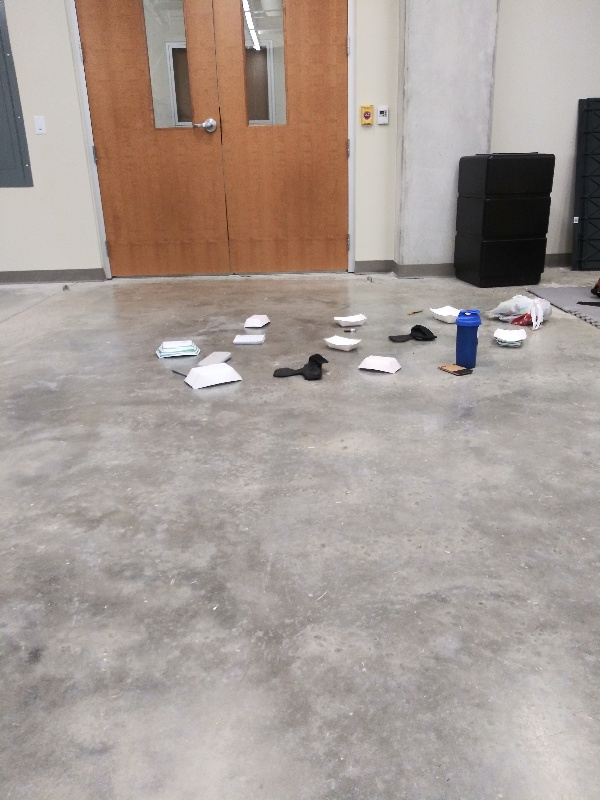plate: (180, 358, 248, 394), (151, 335, 202, 363), (488, 322, 533, 351), (355, 353, 405, 377), (321, 330, 363, 355), (426, 302, 463, 325), (329, 311, 370, 330), (240, 312, 275, 331)
